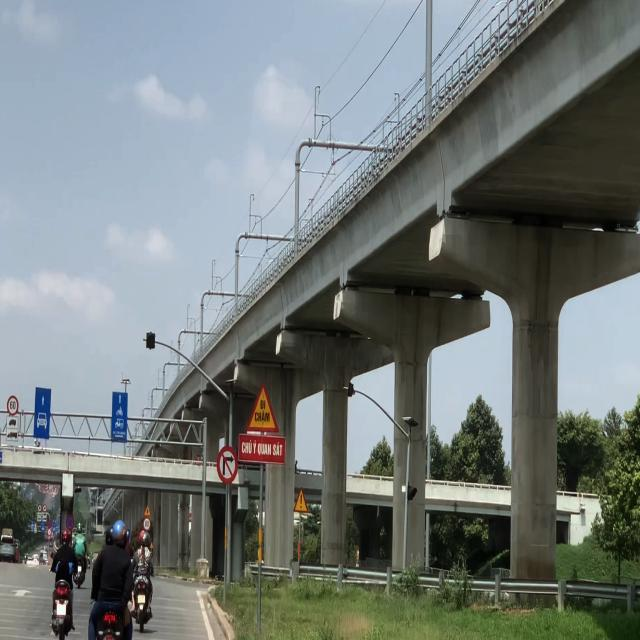Cam dung va do: (64, 514, 76, 531)
Cam re phai: (216, 447, 237, 484)
Giao voi duong khong uu tien: (144, 506, 151, 518)
Nguy hiem: (246, 381, 280, 436), (293, 485, 310, 514)
Toc do toi da: (6, 393, 19, 416), (142, 518, 151, 530)
